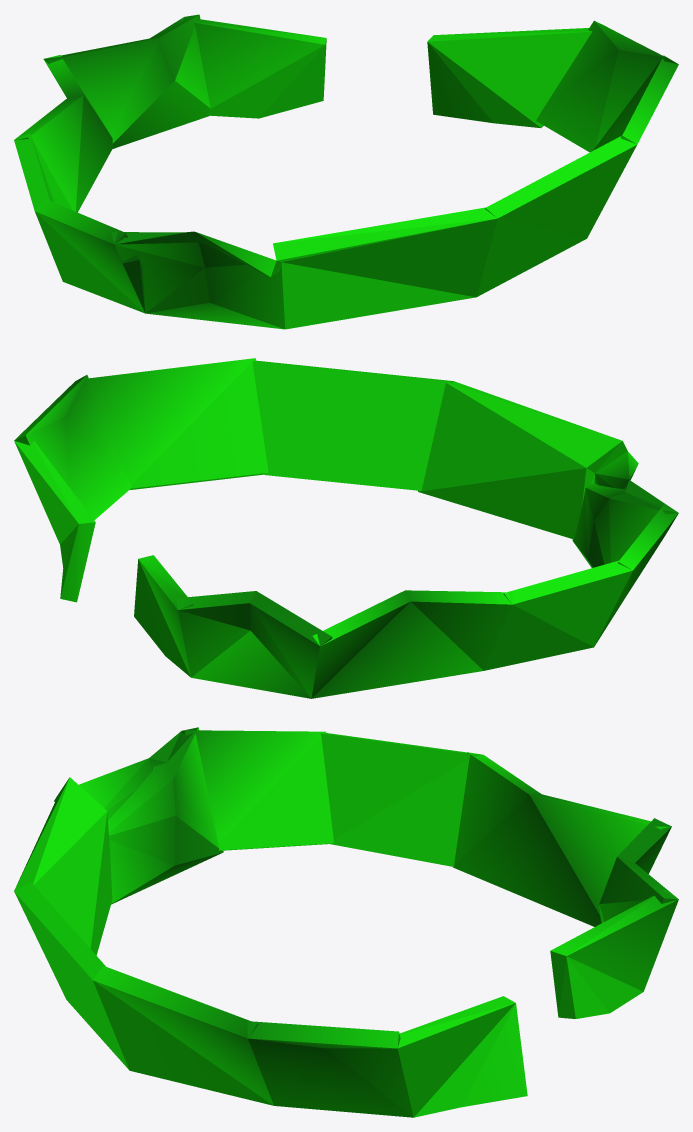
The model's file is CONVEXAltar.fbx.
3 views of the same model, one above another, from view 1: azimuth 30°, elevation 25°; view 2: azimuth 150°, elevation 25°; view 3: azimuth 270°, elevation 25° (orthographic). The views are drawn at different scales.
Parts seen in each view (by area): view 1: convexAltar.007, convexAltar.011, convexAltar.001, convexAltar.003, convexAltar.008, convexAltar.002, convexAltar.010, convexAltar.006, convexAltar.004, convexAltar.009, convexAltar.005; view 2: convexAltar.008, convexAltar.007, convexAltar.009, convexAltar.004, convexAltar.003, convexAltar.005, convexAltar.010, convexAltar.001, convexAltar.011, convexAltar.002, convexAltar.006; view 3: convexAltar.004, convexAltar.005, convexAltar.006, convexAltar.001, convexAltar.009, convexAltar.010, convexAltar.011, convexAltar.007, convexAltar.002, convexAltar.008, convexAltar.003.
Boxes of the visible parts, box(x1,y1,x2,y2) form: convexAltar.007: box(273, 207, 497, 329); convexAltar.011: box(427, 28, 591, 127); convexAltar.001: box(111, 231, 285, 329); convexAltar.003: box(44, 14, 210, 148); convexAltar.008: box(476, 136, 636, 296); convexAltar.002: box(180, 17, 326, 118); convexAltar.010: box(536, 20, 678, 152); convexAltar.006: box(34, 199, 145, 313); convexAltar.004: box(14, 55, 113, 212); convexAltar.009: box(593, 55, 678, 150); convexAltar.005: box(14, 133, 72, 210); convexAltar.008: box(252, 360, 453, 490); convexAltar.007: box(418, 381, 627, 539); convexAltar.009: box(76, 358, 268, 489); convexAltar.004: box(311, 590, 512, 698); convexAltar.003: box(176, 591, 332, 698); convexAltar.005: box(484, 560, 632, 670); convexAltar.010: box(14, 375, 131, 520); convexAltar.001: box(572, 451, 677, 567); convexAltar.011: box(14, 441, 95, 602); convexAltar.002: box(134, 555, 193, 677); convexAltar.006: box(595, 504, 678, 645); convexAltar.004: box(453, 752, 670, 926); convexAltar.005: box(320, 733, 482, 866); convexAltar.006: box(182, 730, 333, 850); convexAltar.001: box(54, 727, 223, 904); convexAltar.009: box(93, 966, 273, 1105); convexAltar.010: box(247, 1021, 413, 1117); convexAltar.011: box(397, 996, 527, 1117); convexAltar.007: box(14, 777, 112, 955); convexAltar.002: box(550, 890, 678, 1018); convexAltar.008: box(14, 882, 128, 1069); convexAltar.003: box(599, 818, 678, 923).
Size of the model in its own units: 76.29 by 14.22 by 64.81.
